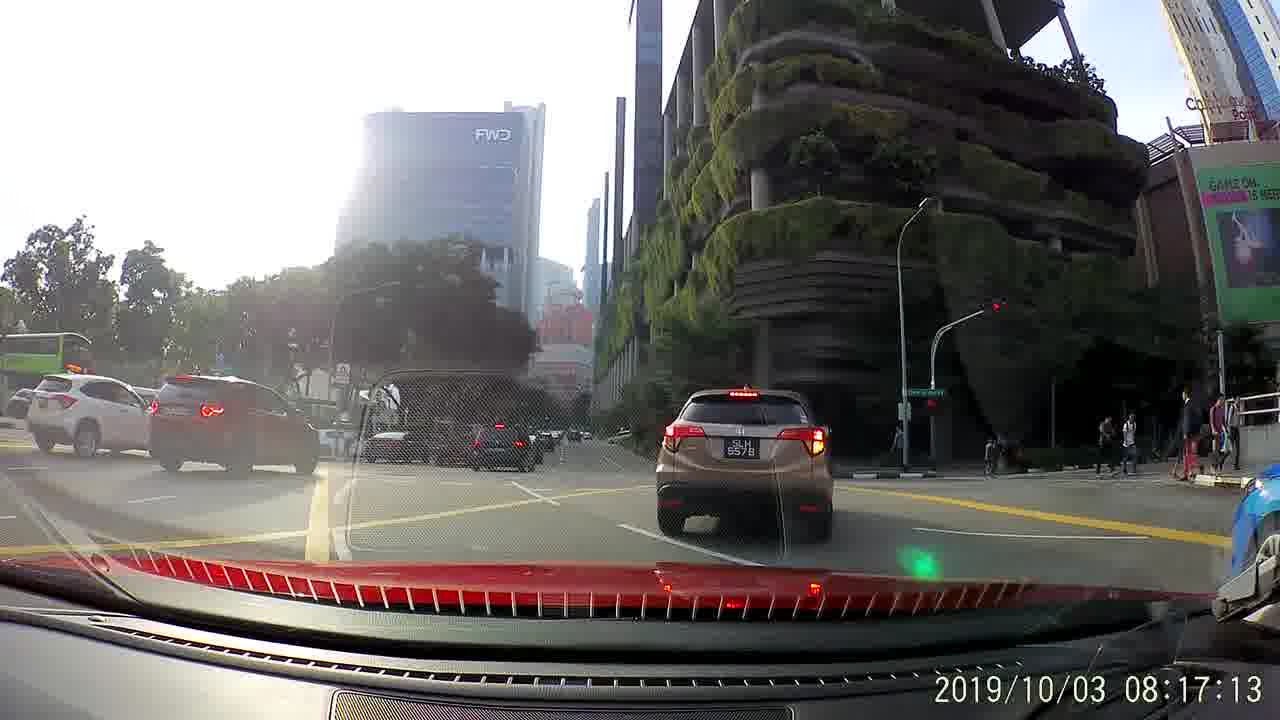car: (659, 386, 829, 538), (146, 369, 321, 478), (25, 369, 147, 455), (470, 420, 540, 473), (361, 425, 433, 468), (607, 428, 636, 447), (563, 427, 581, 444)
